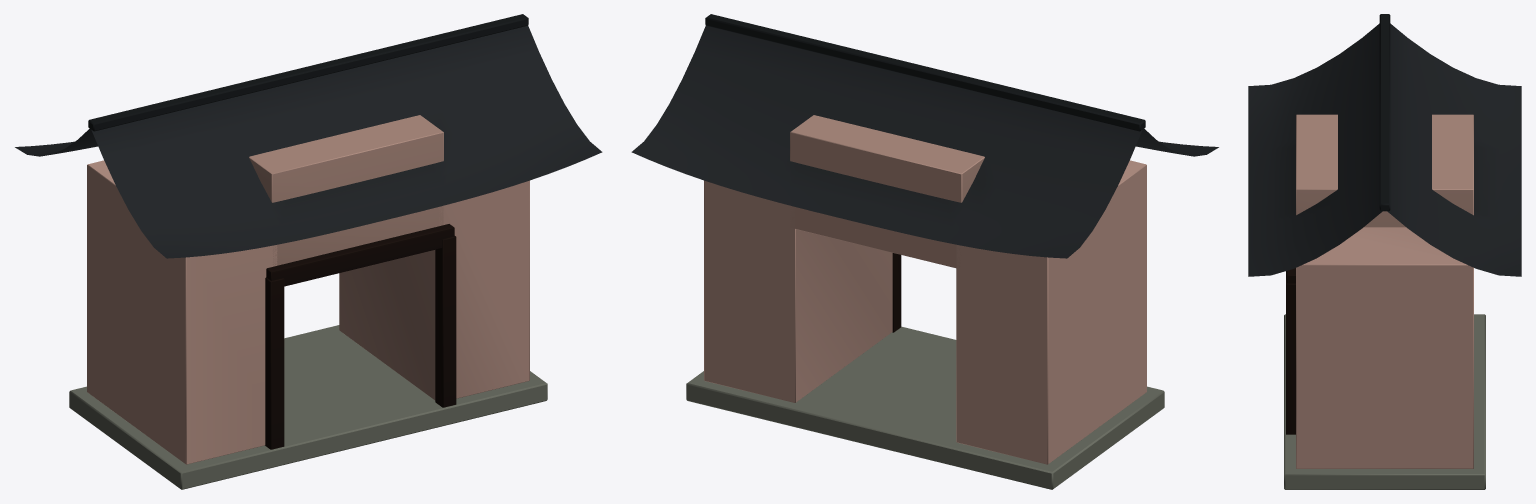
File: fs-gatehouse.glb
3 views of the same model, side by side, from view 1: azimuth 30°, elevation 25°; view 2: azimuth 150°, elevation 25°; view 3: azimuth 270°, elevation 25° (orthographic). The views are drawn at different scales.
Visible parts, largest first — view 1: walls__plaster, roof__tile, plinth__stone, beams__wood; view 2: walls__plaster, roof__tile, plinth__stone, beams__wood; view 3: walls__plaster, roof__tile, plinth__stone, beams__wood.
Boxes of the visible parts, x1,y1,x2,y2 form: walls__plaster: (87, 115, 529, 464); roof__tile: (15, 14, 602, 258); plinth__stone: (69, 325, 547, 489); beams__wood: (265, 224, 456, 449); walls__plaster: (704, 115, 1146, 464); roof__tile: (631, 14, 1218, 258); plinth__stone: (686, 326, 1164, 489); beams__wood: (892, 253, 901, 332); walls__plaster: (1296, 114, 1473, 468); roof__tile: (1248, 14, 1521, 276); plinth__stone: (1284, 314, 1485, 489); beams__wood: (1286, 268, 1295, 434).
Bounding box in the file's own units: 7.6 × 5.6 × 4.6.
